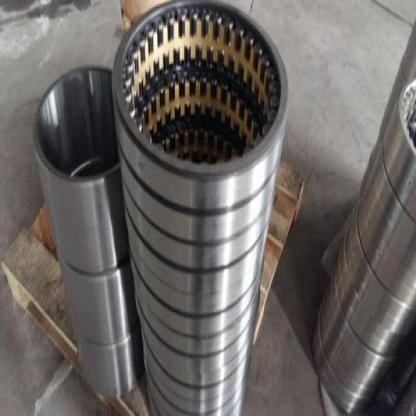FOD: (110, 0, 292, 218)
